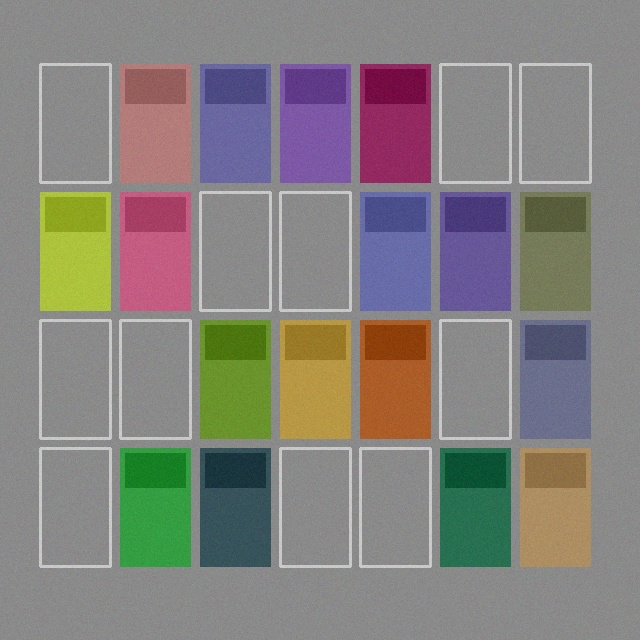space-empty: (40, 64, 110, 182), (440, 64, 510, 182), (520, 64, 590, 182), (200, 192, 270, 310), (280, 192, 350, 310), (40, 320, 110, 438), (120, 320, 190, 438), (440, 320, 510, 438), (40, 448, 110, 566), (280, 448, 350, 566), (360, 448, 430, 566)
space-occupied: (120, 64, 190, 182), (200, 64, 270, 182), (280, 64, 350, 182), (360, 64, 430, 182), (40, 192, 110, 310), (120, 192, 190, 310), (360, 192, 430, 310), (440, 192, 510, 310), (520, 192, 590, 310), (200, 320, 270, 438), (280, 320, 350, 438), (360, 320, 430, 438), (520, 320, 590, 438), (120, 448, 190, 566), (200, 448, 270, 566), (440, 448, 510, 566), (520, 448, 590, 566)
